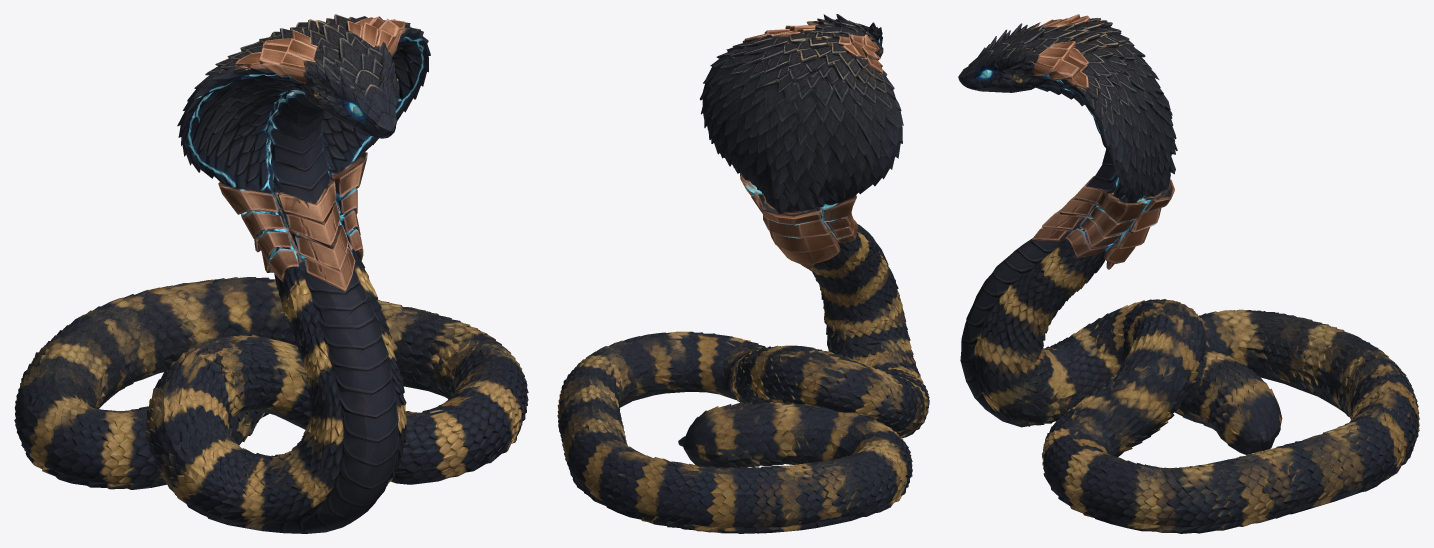
File: fulgocobra_b.glb
3 views of the same model, side by side, from view 1: azimuth 30°, elevation 25°; view 2: azimuth 150°, elevation 25°; view 3: azimuth 270°, elevation 25° (orthographic). The views are drawn at different scales.
Parts seen in each view (by area): view 1: Mesh_0; view 2: Mesh_0; view 3: Mesh_0.
Boxes of the visible parts, <box> form: Mesh_0: <box>14,14,528,533</box>; Mesh_0: <box>557,14,929,533</box>; Mesh_0: <box>958,14,1419,533</box>.
Bounding box in the file's own units: 1.8 × 1.84 × 1.9.
Materials: 1 (1 with a texture image).
